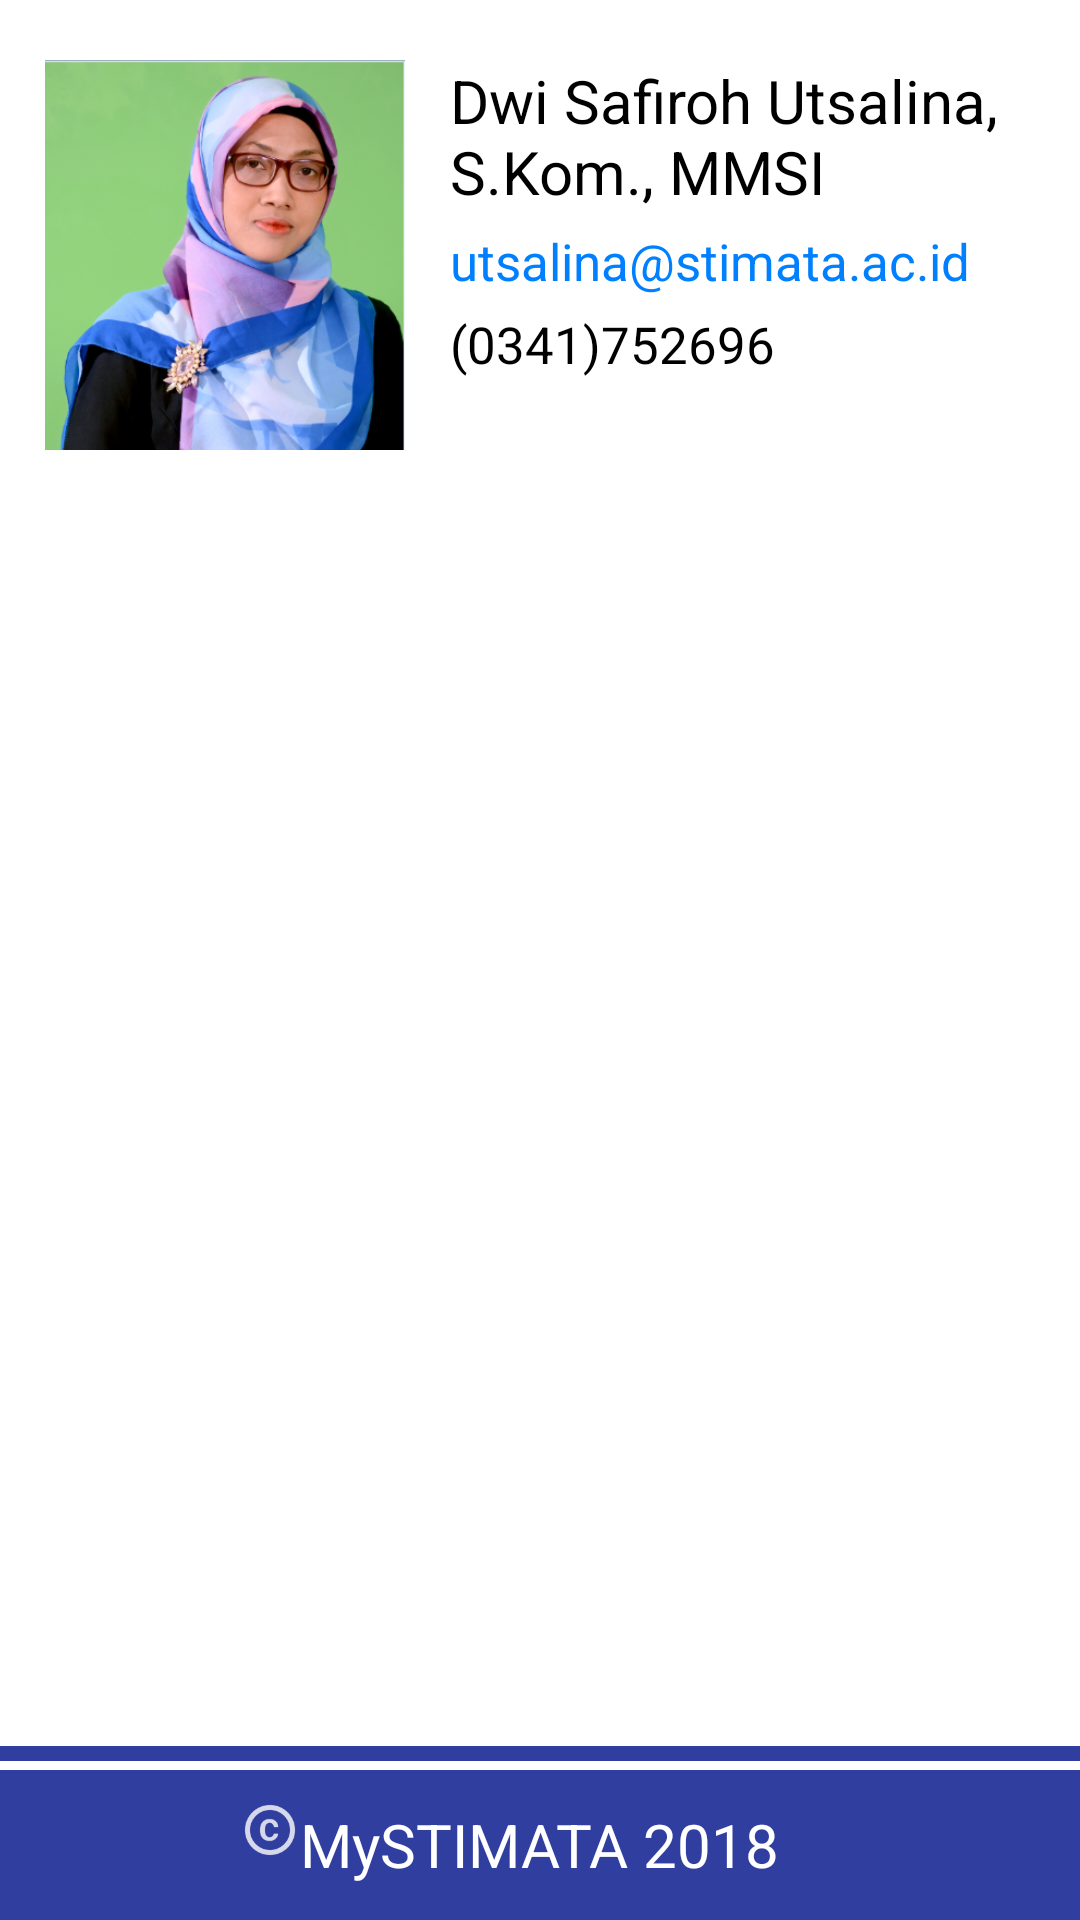

Screen size 1080x1920. Icon name, then its box in pixels as rect(x1, y1, x2, y2):
copyright: rect(245, 1805, 295, 1855)
